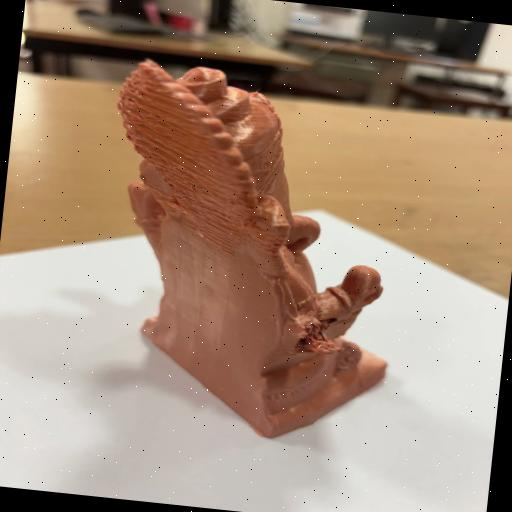cracks: (272, 298, 360, 374)
